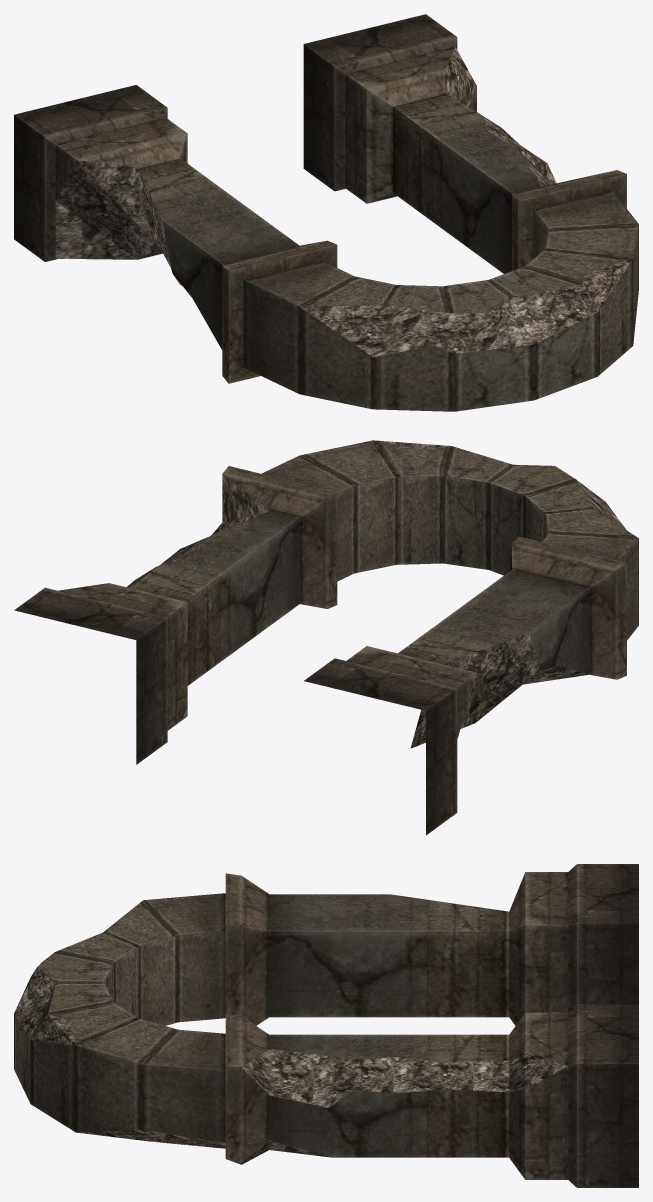
3 renders of one model, top to bottom at view 1: azimuth 30°, elevation 25°; view 2: azimuth 150°, elevation 25°; view 3: azimuth 270°, elevation 25°, orthographic.
Parts seen in each view (by area): view 1: model_Object30; view 2: model_Object30; view 3: model_Object30.
Part boxes in pixels (left/top/right/bottom): model_Object30: left=14, top=14, right=638, bottom=411; model_Object30: left=14, top=440, right=638, bottom=835; model_Object30: left=14, top=864, right=638, bottom=1187.
Size of the model in its own units: 1.98 by 0.572 by 2.61.
Materials: 2 (2 with a texture image).
